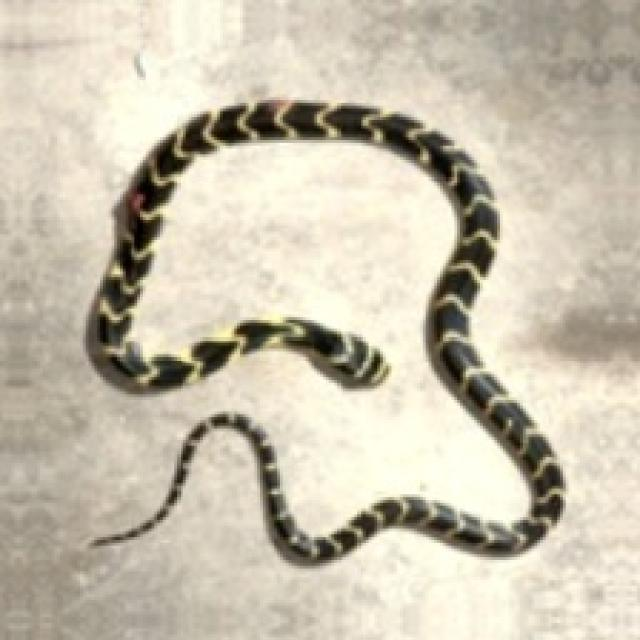king cobra: (89, 100, 563, 560)
